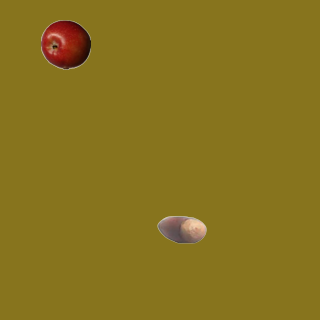Apple Braeburn: (40, 19, 90, 69)
Hazelnut: (156, 204, 206, 254)
